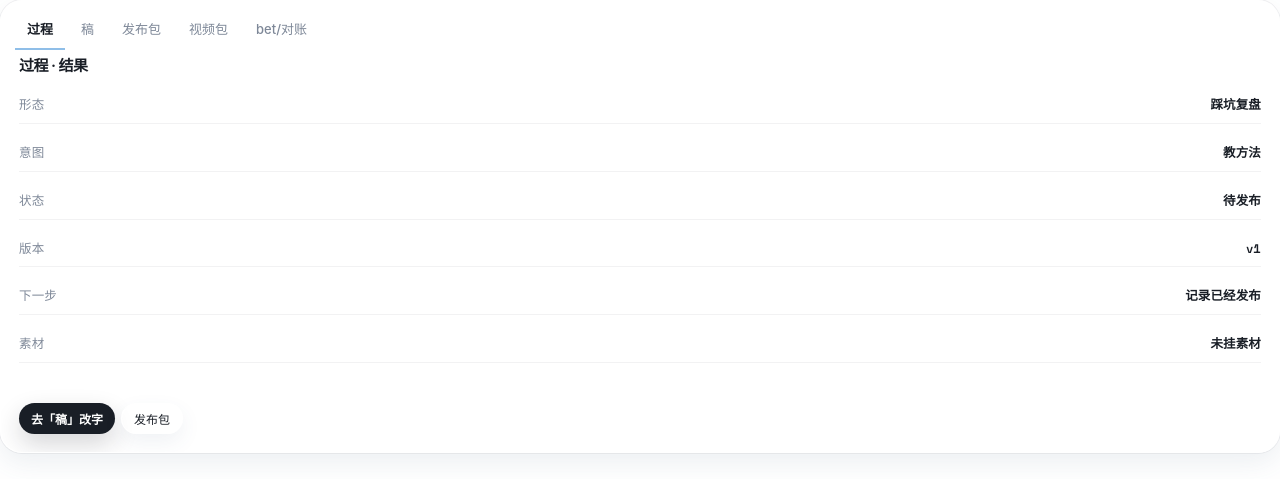
it: ArtifactPane › runs a publish check and renders findings and limitations
The image size is (1280, 479).
Click the tab "发布包".
click(142, 30)  # box [110,11,173,50]
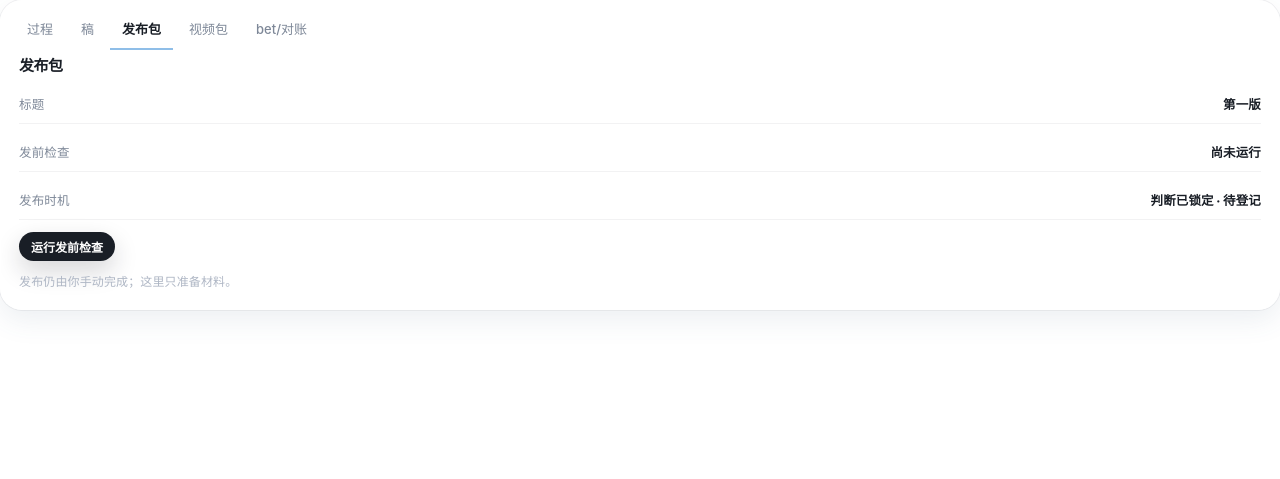
Result: the text "尚未运行" is shown at [1210,144,1261,163]
Click the button "运行发前检查".
click(67, 246)  # box [19,232,115,260]
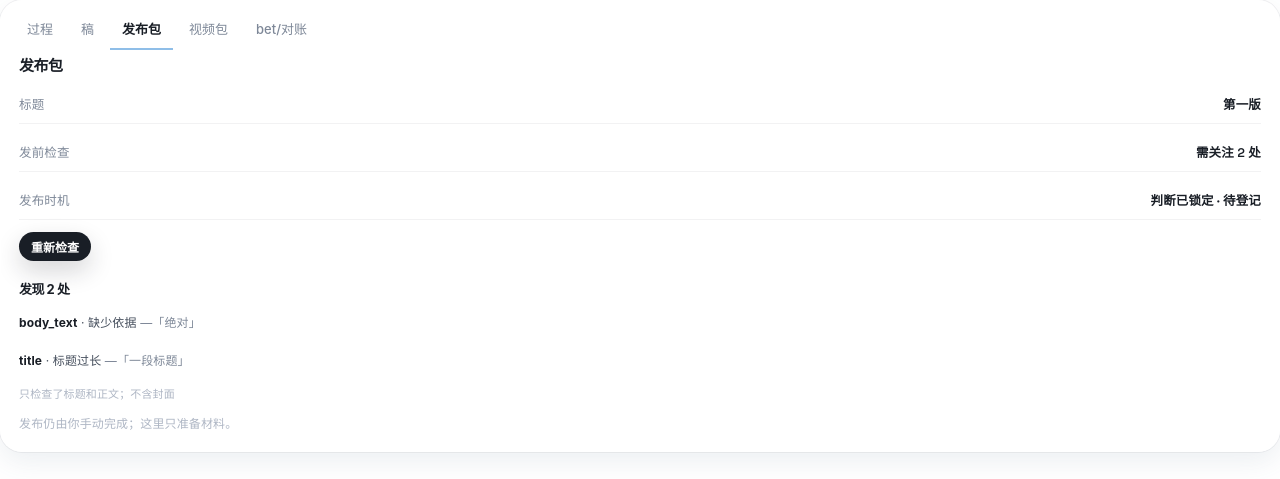
Result: the text "需关注 2 处" is shown at [1196,144,1261,163]
Result: the text "发现 2 处" is shown at [19,280,69,296]
Result: the text "body_text · 缺少依据 —「绝对」" is shown at [19,315,201,330]
